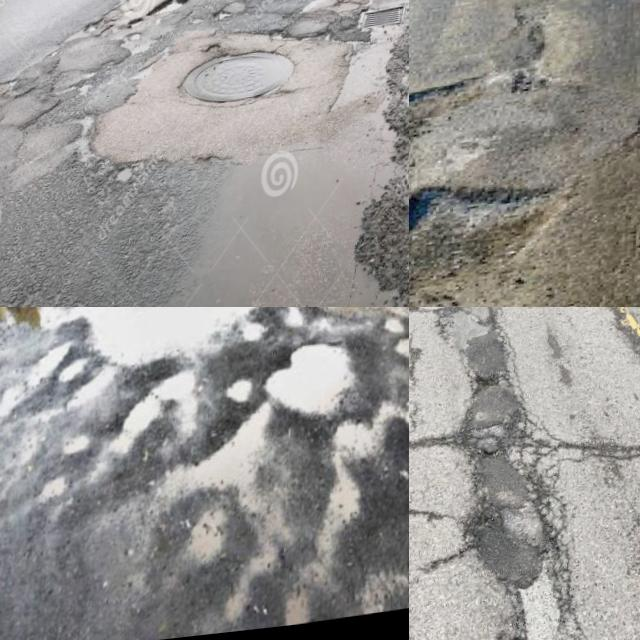Potholes: (40, 0, 409, 228), (425, 362, 599, 638), (142, 340, 321, 572), (409, 134, 592, 307), (270, 418, 409, 635), (0, 307, 276, 410), (217, 307, 389, 443), (54, 381, 201, 527), (176, 553, 374, 640), (409, 57, 520, 197), (264, 307, 409, 351), (409, 307, 495, 361)
